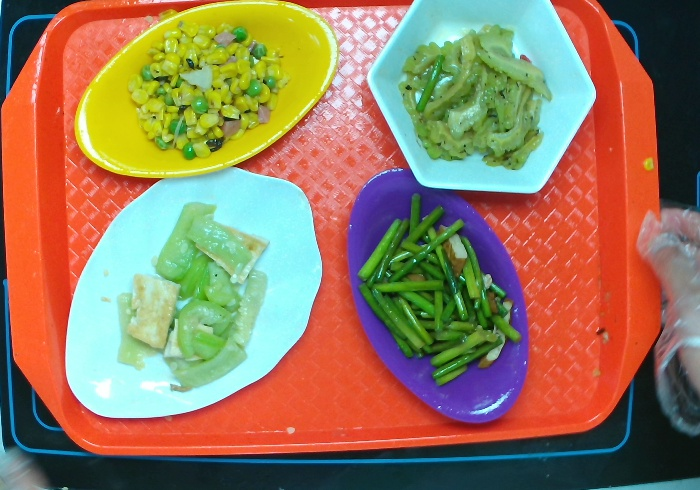RJxy-Bai_Ye_Pan: (59, 165, 321, 422)
RJxy-Fen_Hong_Tuo_Yuan: (345, 162, 531, 426)
RJxy-Huang_Se_Tuo_Yuan: (73, 1, 336, 179)
RJxy-Liu_Jiao_Wan: (363, 1, 596, 197)
